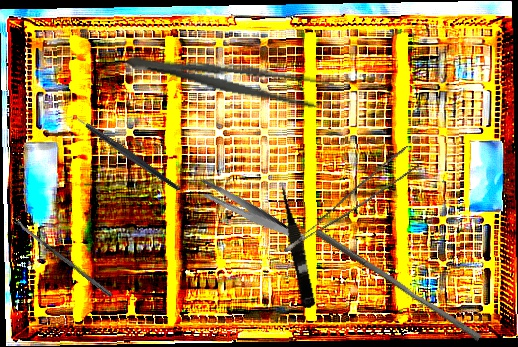Chopper: (62, 84, 182, 222)
Dressing Forceps: (124, 44, 336, 112), (195, 158, 307, 267)
Micro Scissor: (275, 178, 319, 310)
Pusher: (310, 229, 486, 342)
Surgical Spoon: (12, 217, 114, 298)
Tissue Forceps: (269, 145, 425, 253)
